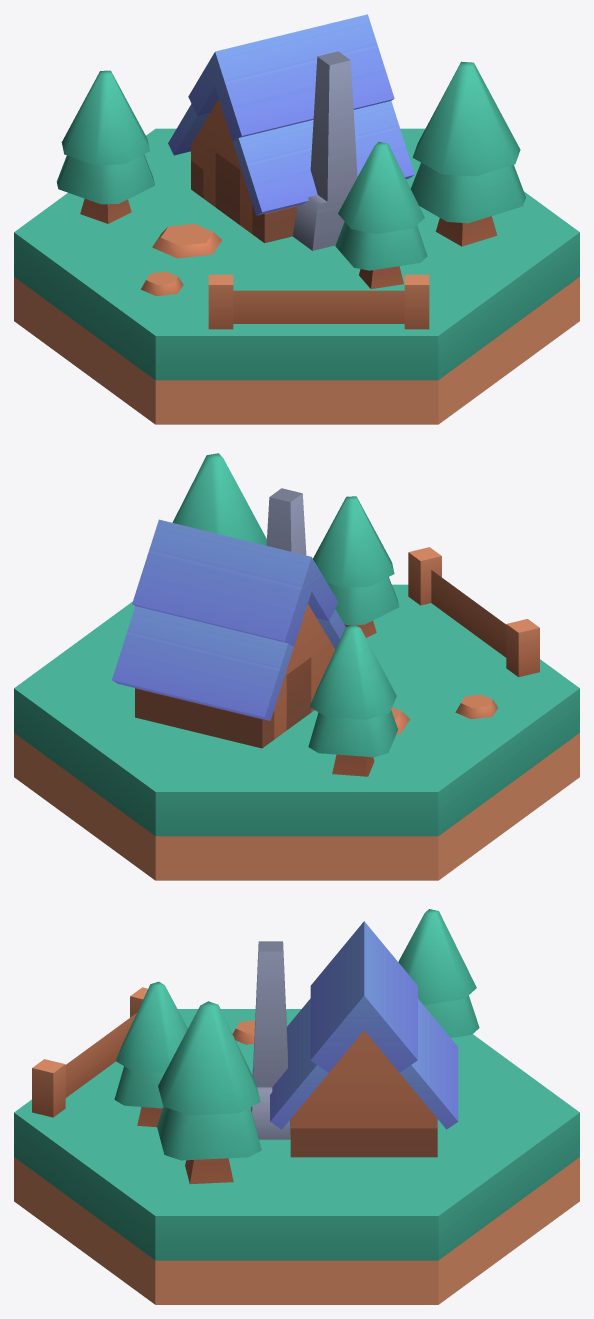
Rendered from kenney-hexagon-building-house.glb.
The picture shows the model from 3 angles, top to bottom: view 1: azimuth 30°, elevation 25°; view 2: azimuth 150°, elevation 25°; view 3: azimuth 270°, elevation 25°; orthographic projection.
Parts seen in each view (by area): view 1: building_house; view 2: building_house; view 3: building_house.
Boxes of the visible parts, <box> form: building_house: <box>14,14,579,424</box>; building_house: <box>14,453,579,880</box>; building_house: <box>14,909,579,1304</box>.
Bounding box in the file's own units: 1 × 0.6 × 1.15.
1 material, 1 textured.
